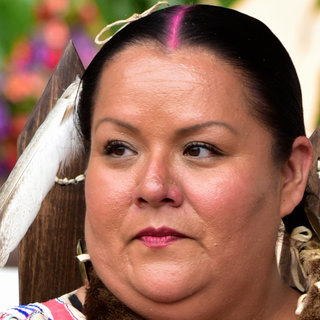eye: (99, 136, 139, 162), (178, 141, 228, 159)
